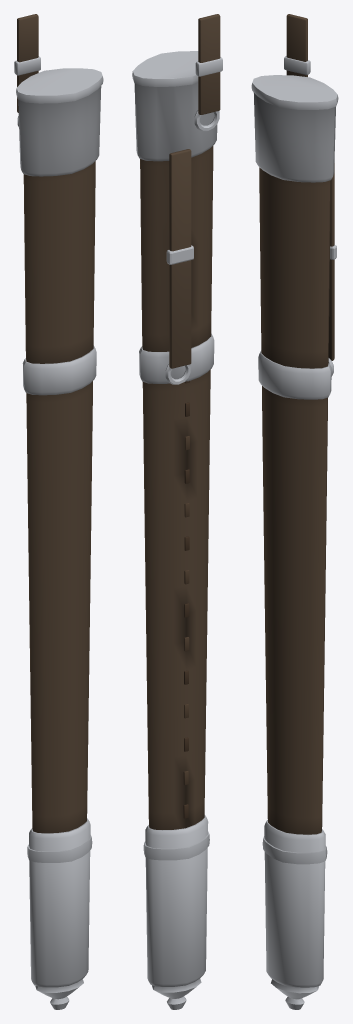
File: scabbard.glb
3 renders of one model, left to right at view 1: azimuth 30°, elevation 25°; view 2: azimuth 210°, elevation 25°; view 3: azimuth 330°, elevation 25°, orthographic. The views are drawn at different scales.
Parts seen in each view (by area): view 1: scabbard; view 2: scabbard; view 3: scabbard.
Part boxes in pixels (box(x1,y1,x2,y2)): scabbard: box(14, 14, 103, 1009); scabbard: box(132, 14, 222, 1009); scabbard: box(251, 14, 338, 1009).
Bounding box in the file's own units: 0.0796 × 0.8875 × 0.0571.
